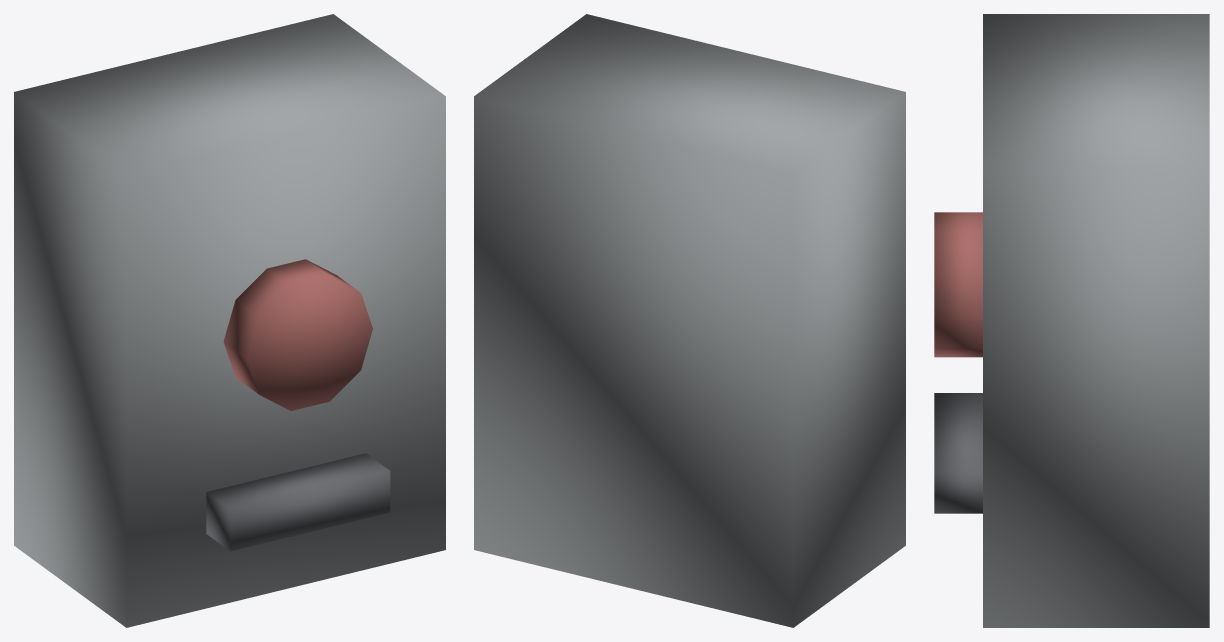
Rendered from sanitation_dispenser__deep.glb.
The picture shows the model from 3 angles, left to right: view 1: azimuth 30°, elevation 25°; view 2: azimuth 150°, elevation 25°; view 3: azimuth 270°, elevation 25°; orthographic projection.
Parts seen in each view (by area): view 1: world; view 2: world; view 3: world.
Boxes of the visible parts, x1,y1,x2,y2 form: world: (14,14,445,627); world: (474,14,905,627); world: (934,14,1209,627).
Size of the model in its own units: 0.28 by 0.38 by 0.2074.
